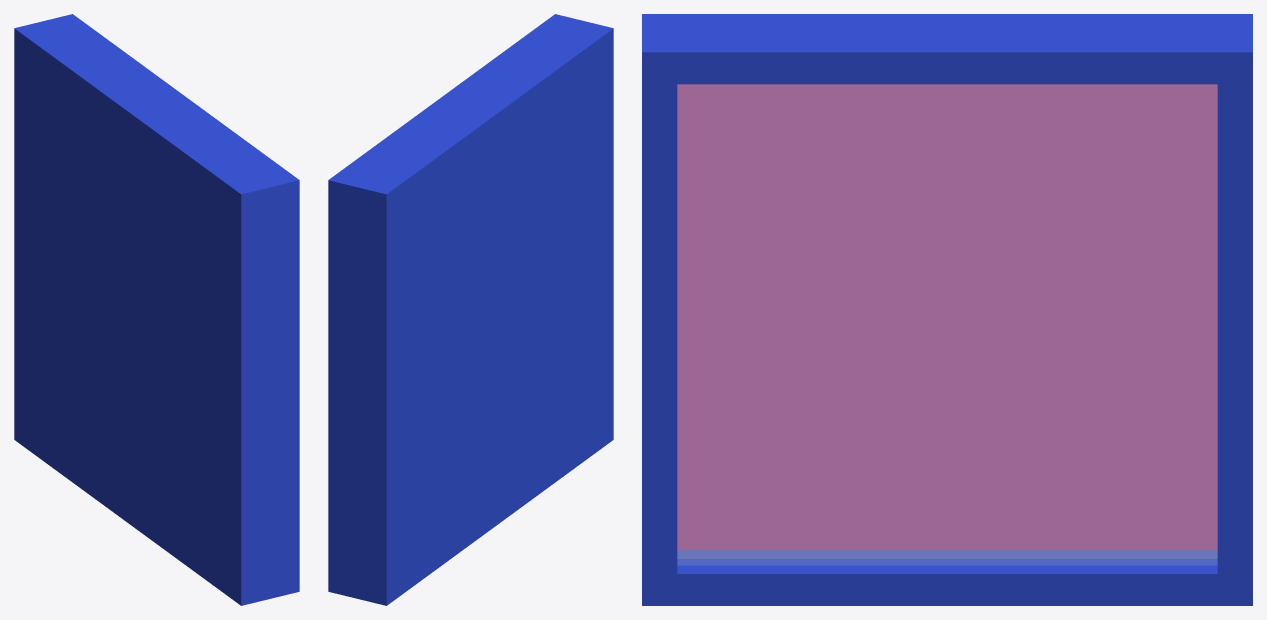
The model's file is GlassTest3.gltf.
3 views of the same model, side by side, from view 1: azimuth 30°, elevation 25°; view 2: azimuth 150°, elevation 25°; view 3: azimuth 270°, elevation 25° (orthographic). The views are drawn at different scales.
Visible parts, largest first — view 1: Cube.001; view 2: Cube.001; view 3: Cube.001, Cube.
Boxes of the visible parts, x1=… form: Cube.001: x1=14, y1=14, x2=299, y2=605; Cube.001: x1=328, y1=14, x2=613, y2=605; Cube.001: x1=642, y1=14, x2=1252, y2=605; Cube: x1=677, y1=84, x2=1217, y2=565.
Size of the model in its own units: 0.3358 by 2.26 by 2.26.
